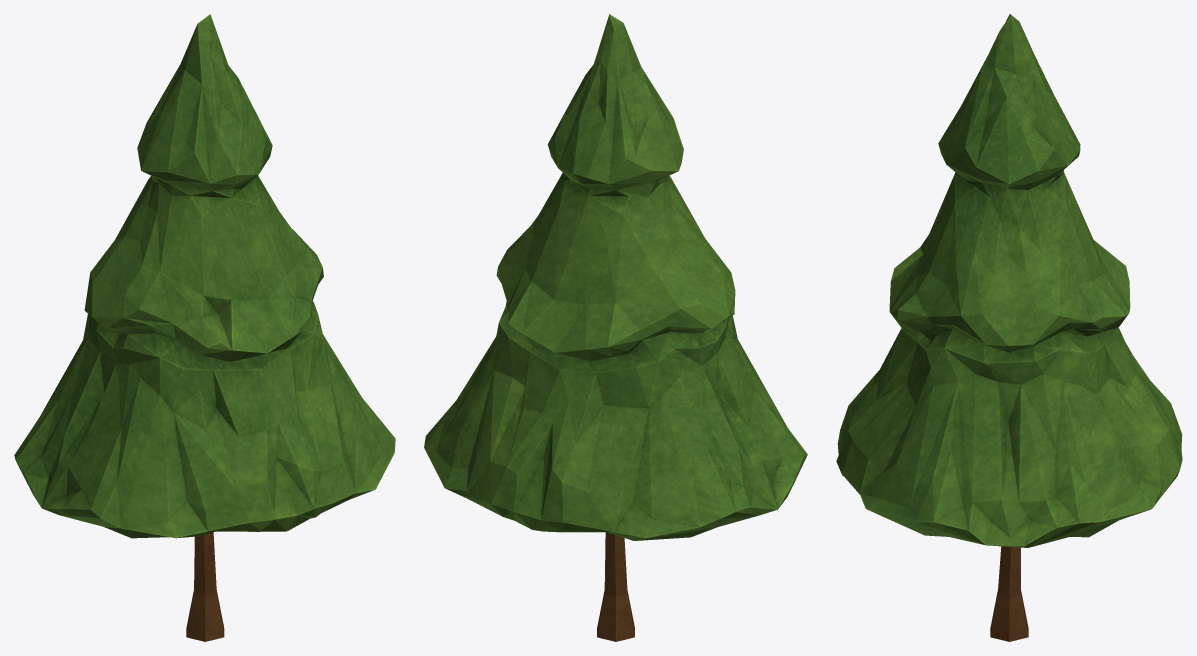
The model's file is PineTree.gltf.
3 renders of one model, left to right at view 1: azimuth 30°, elevation 25°; view 2: azimuth 150°, elevation 25°; view 3: azimuth 270°, elevation 25°, orthographic.
Visible parts, largest first — view 1: node-0; view 2: node-0; view 3: node-0.
Boxes of the visible parts, box(x1,y1,x2,y2) form: node-0: box(14, 14, 395, 641); node-0: box(424, 14, 807, 641); node-0: box(836, 14, 1182, 641).
Size of the model in its own units: 10.84 by 19.65 by 9.93.
Materials: 1 (1 with a texture image).
